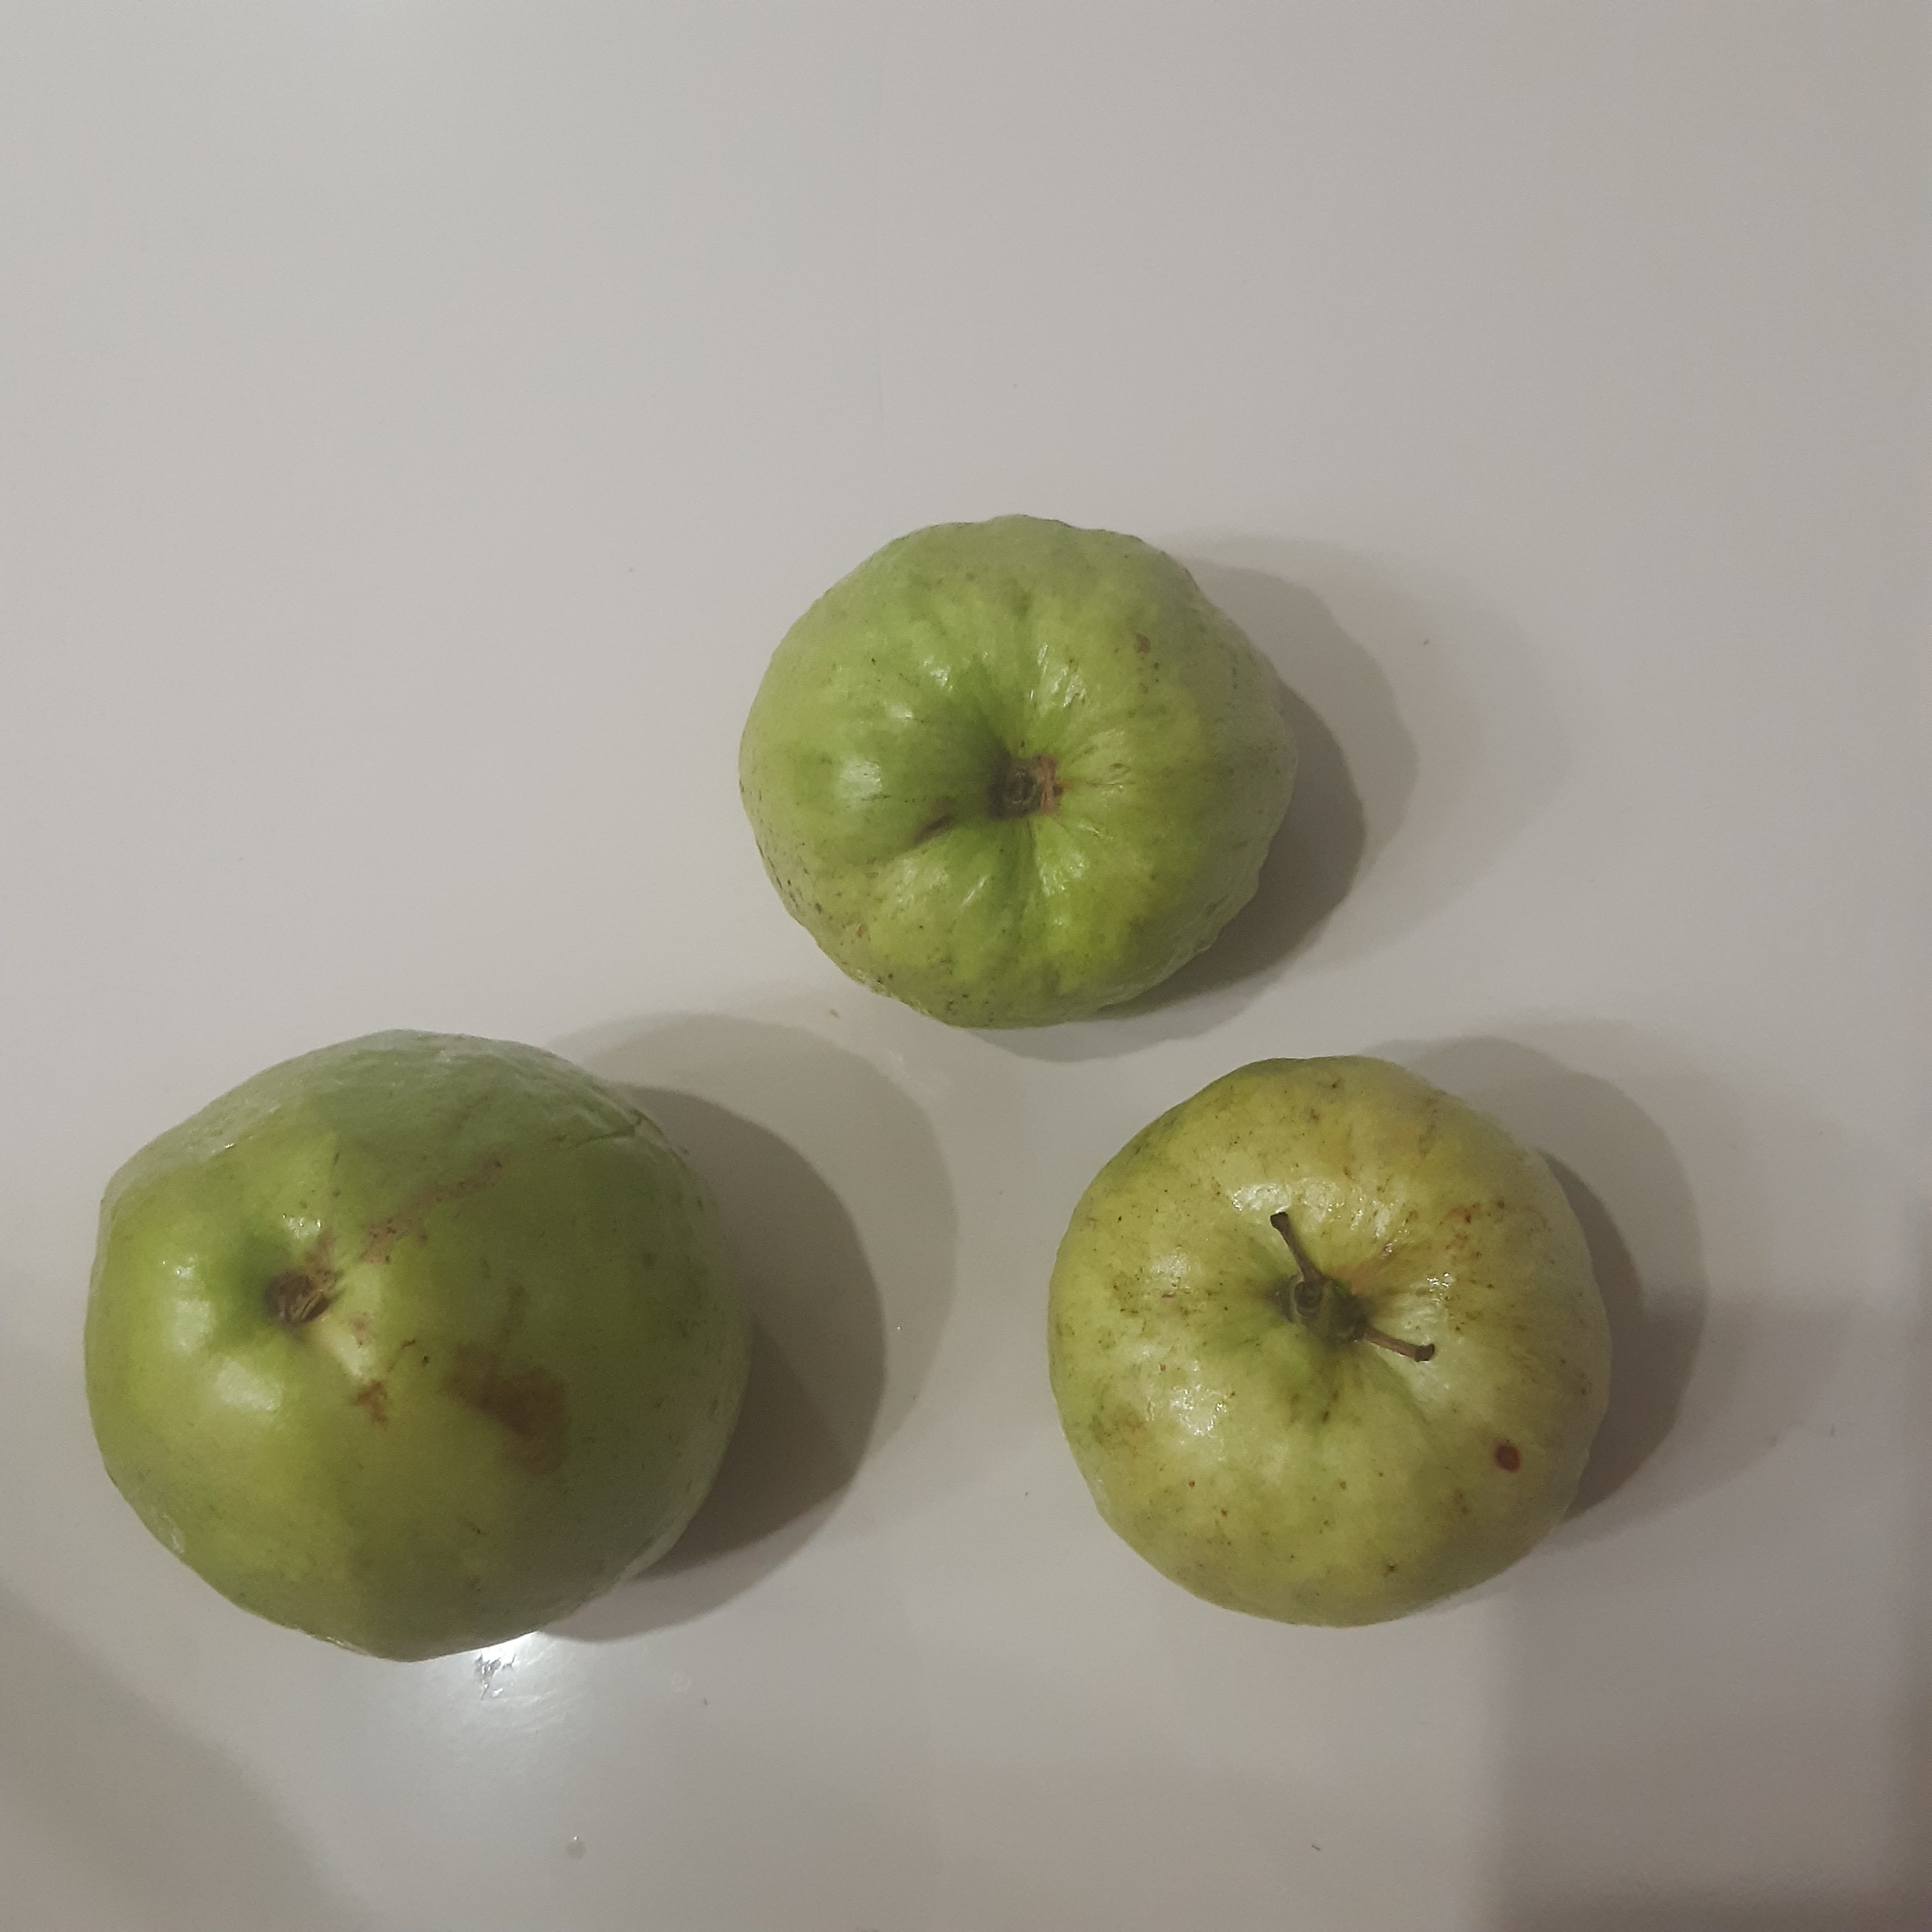Oi: (81, 1026, 755, 1666), (1043, 1055, 1614, 1626), (736, 513, 1304, 1035)
